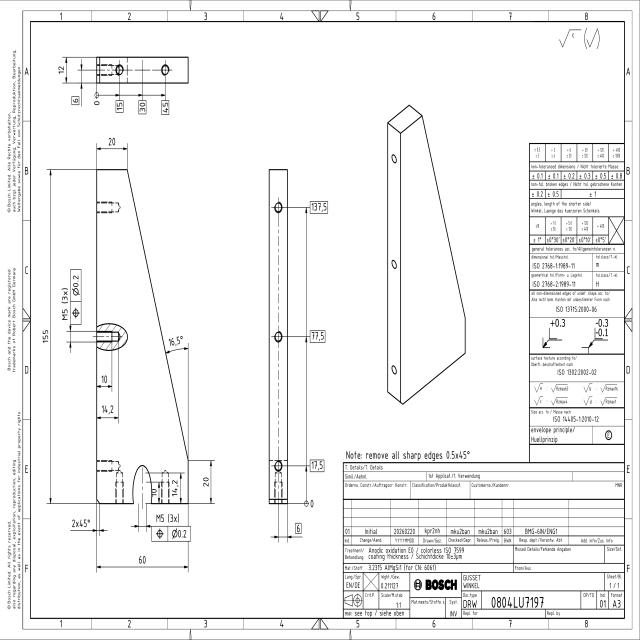dimension: (41, 166, 55, 507), (130, 509, 192, 543), (61, 267, 82, 354), (96, 555, 190, 572), (68, 516, 108, 536), (138, 92, 170, 116), (115, 92, 147, 115), (270, 520, 302, 543), (70, 59, 85, 108), (202, 457, 216, 507), (94, 92, 124, 114), (95, 135, 129, 152), (166, 334, 190, 356), (94, 403, 120, 422), (170, 469, 183, 507), (304, 199, 329, 217), (58, 52, 70, 88), (304, 328, 327, 346), (94, 372, 114, 391), (304, 458, 326, 474), (150, 478, 162, 506)
